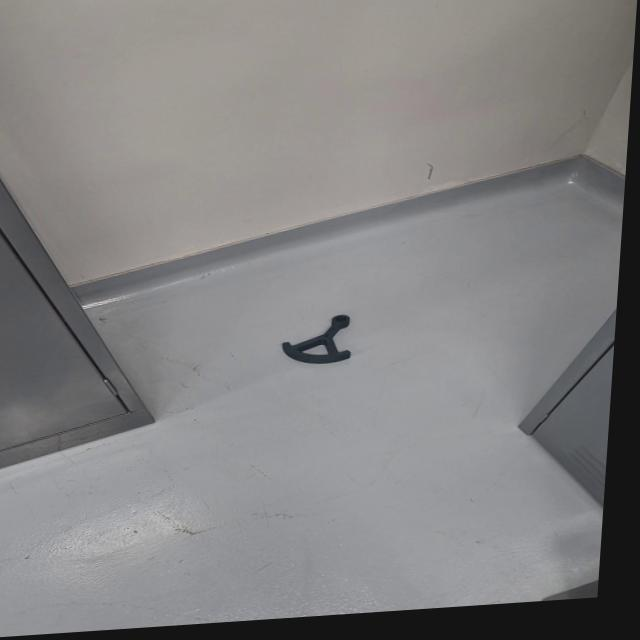haptic: (279, 313, 354, 367)
